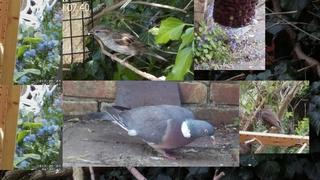sparrow: (87, 24, 170, 69)
starling: (261, 105, 285, 134)
wood pigeon: (87, 105, 215, 161)
